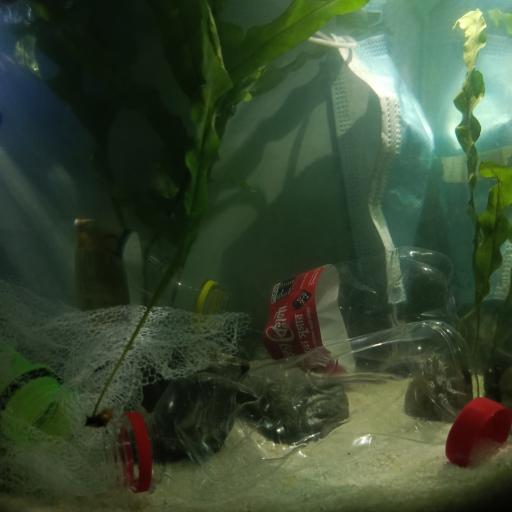bottle_cap: (445, 396, 512, 467)
mask: (325, 29, 437, 309)
net: (1, 281, 251, 496)
plastic_bag: (0, 214, 233, 328)
plastic_bottle: (105, 317, 487, 503), (234, 248, 464, 360), (0, 334, 67, 445)
